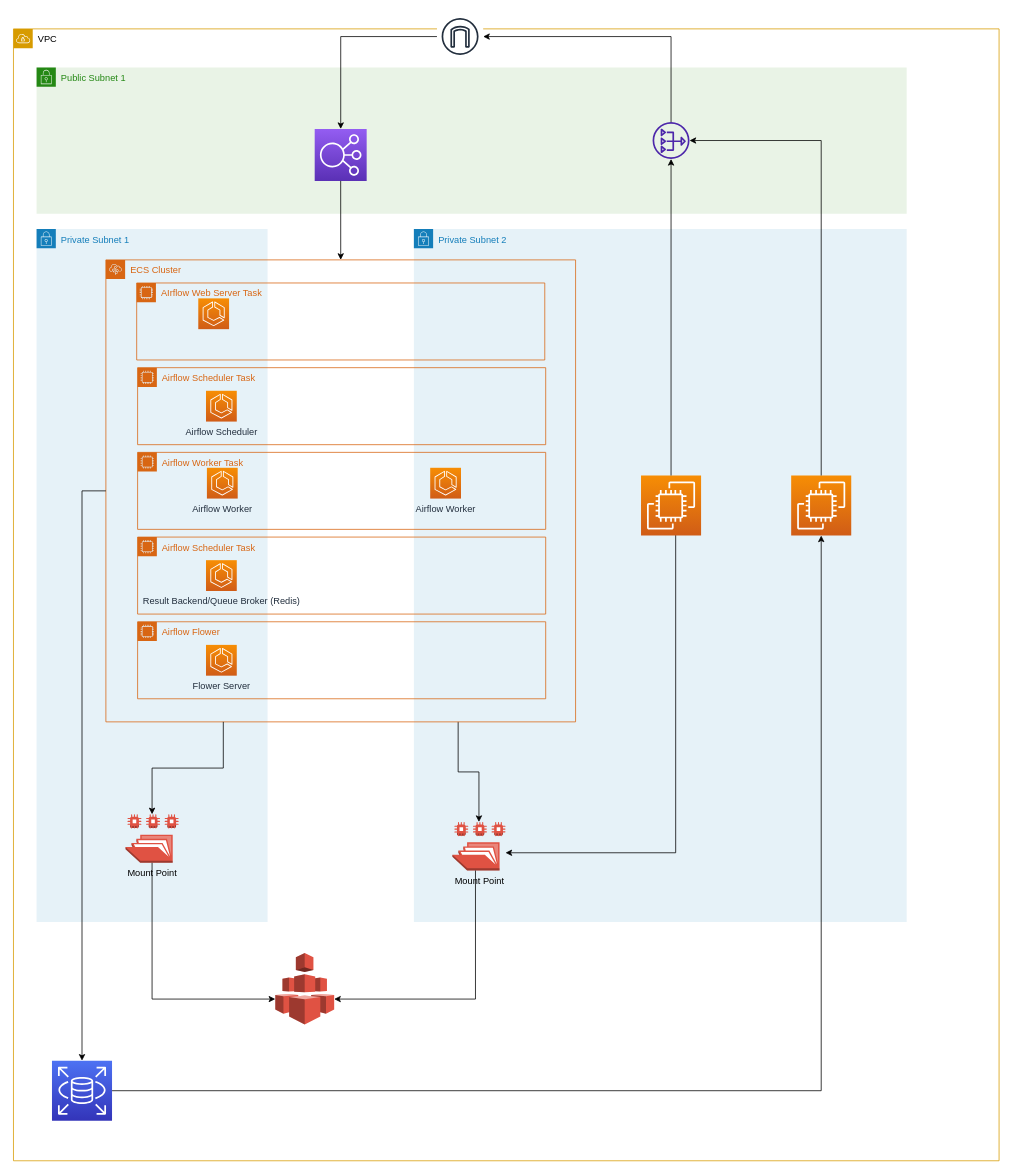
Some shapes in this 1013 by 1174 pixel diagram are drawn without their labels. Here are the shapes that lost their labels. From the top down, the centre of each, then its label:
the point at 459,36: Internet gateway
the point at 340,154: Load Balancer
the point at 670,140: NAT Gateway
the point at 213,313: AIrflow Web Server
the point at 670,505: Agent Deploy (EC2)
the point at 820,505: Power BI Gateway
the point at 304,988: DAGs/Logs (EFS)
the point at 81,1090: DW (RDS)
